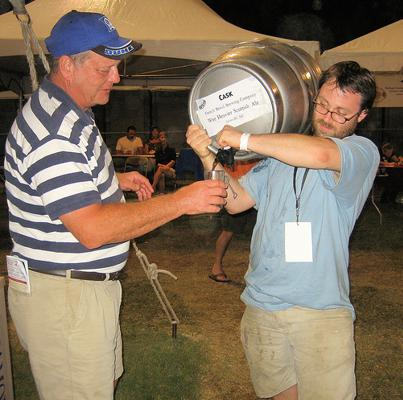person: (188, 60, 381, 398)
